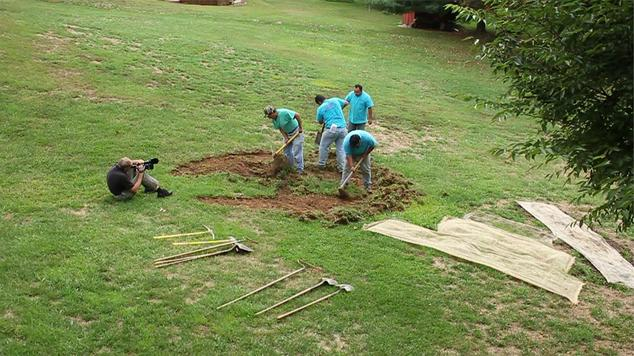sit: (339, 101, 376, 197), (105, 148, 166, 206), (261, 103, 305, 173), (252, 98, 314, 144)
stay: (315, 89, 346, 164), (349, 78, 365, 140)
